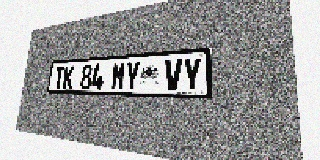4: (91, 64, 105, 90)
8: (80, 64, 93, 89)
K: (62, 66, 75, 89)
M: (111, 62, 126, 90)
T: (53, 66, 65, 89)
V: (164, 59, 182, 91)
Y: (182, 57, 202, 91), (124, 61, 140, 90)
